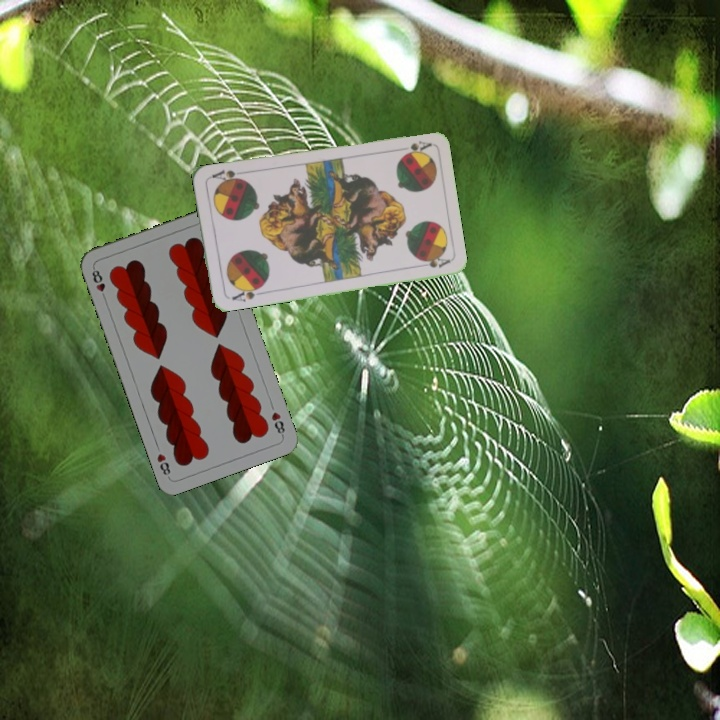H8: (88, 263, 109, 303), (267, 408, 287, 439)
SA: (228, 282, 265, 304), (398, 136, 433, 158)
